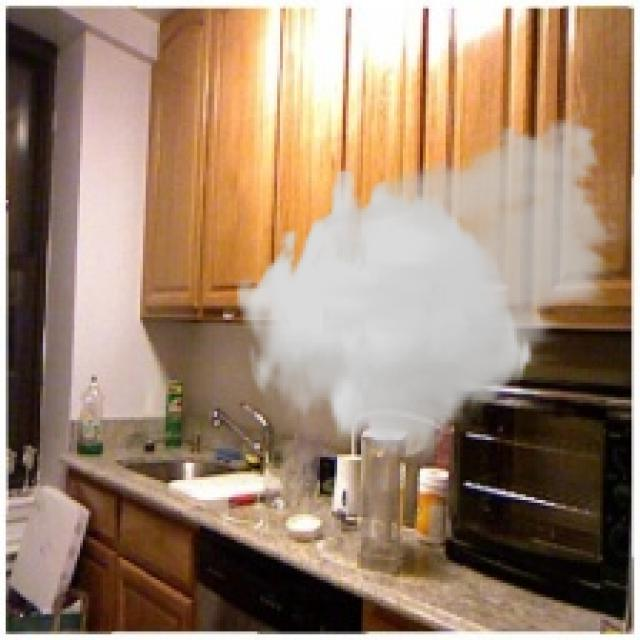smoke: (234, 103, 623, 457)
